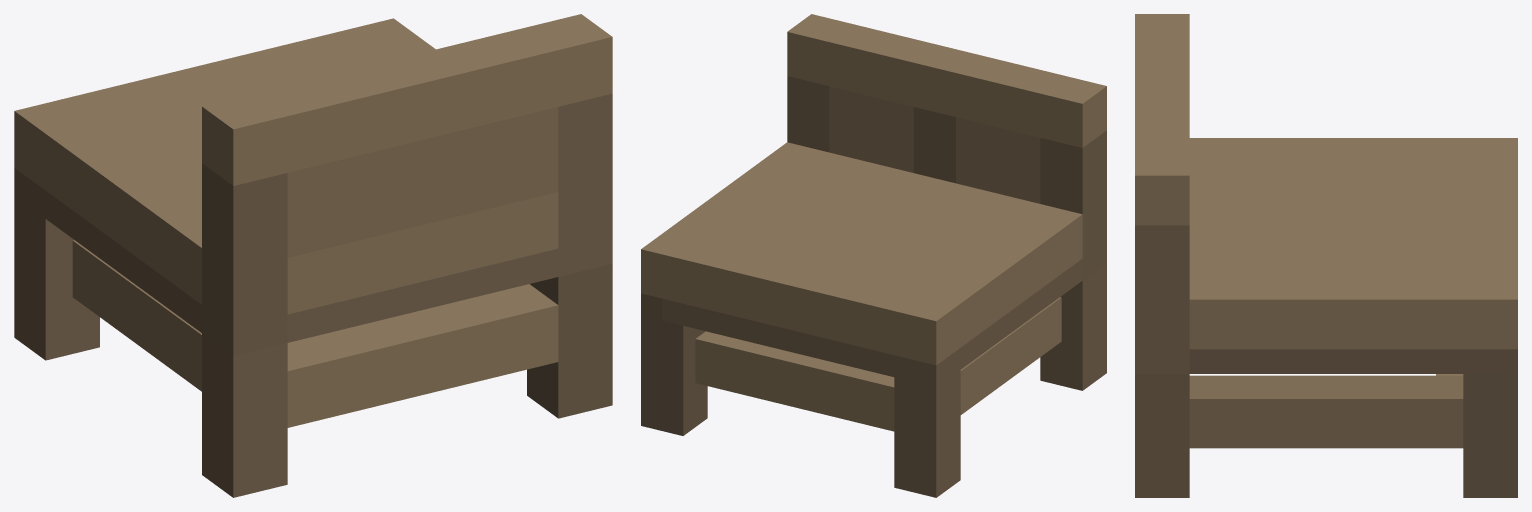
Rendered from reclinatorio_desgastada_01.glb.
The picture shows the model from 3 angles, left to right: view 1: azimuth 30°, elevation 25°; view 2: azimuth 150°, elevation 25°; view 3: azimuth 270°, elevation 25°; orthographic projection. The views are drawn at different scales.
Visible parts, largest first — view 1: reclinatorio_desgastada; view 2: reclinatorio_desgastada; view 3: reclinatorio_desgastada.
Boxes of the visible parts, x1,y1,x2,y2 form: reclinatorio_desgastada: [14, 14, 612, 497]; reclinatorio_desgastada: [641, 14, 1106, 497]; reclinatorio_desgastada: [1135, 14, 1517, 497].
Size of the model in its own units: 1 by 0.9286 by 1.
